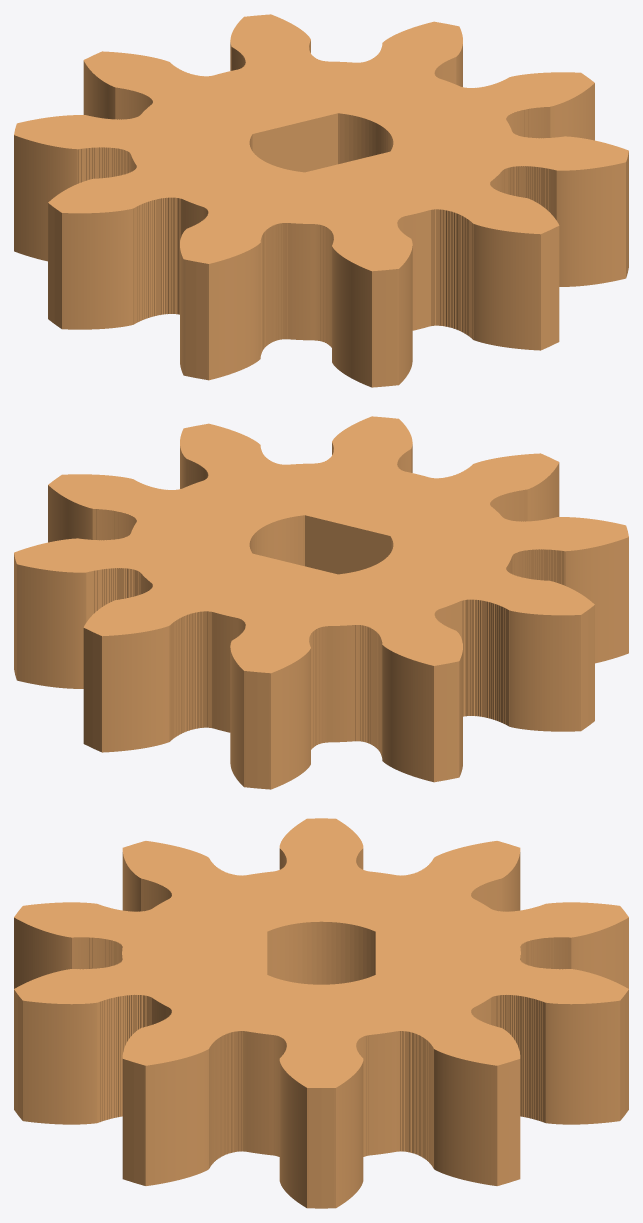
Rendered from gear-spur-z10.glb.
The picture shows the model from 3 angles, top to bottom: view 1: azimuth 30°, elevation 25°; view 2: azimuth 150°, elevation 25°; view 3: azimuth 270°, elevation 25°; orthographic projection. The views are drawn at different scales.
Visible parts, largest first — view 1: gear-spur-z10; view 2: gear-spur-z10; view 3: gear-spur-z10.
Boxes of the visible parts, x1,y1,x2,y2 form: gear-spur-z10: (14,14,628,387); gear-spur-z10: (14,416,628,789); gear-spur-z10: (14,818,628,1208).
Bounding box in the file's own units: 0.03 × 0.00625 × 0.0289.
